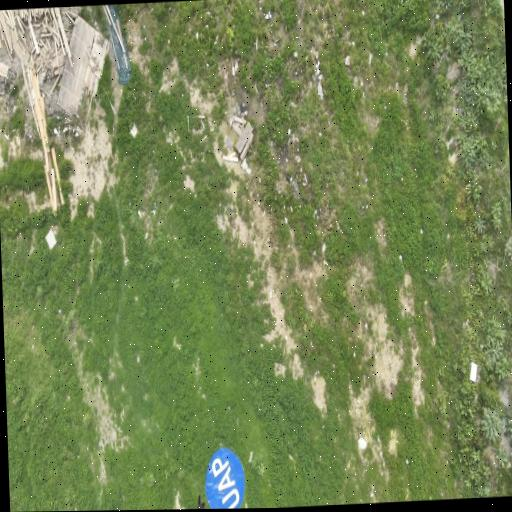person: (197, 495, 204, 508)
uap: (204, 446, 243, 509)
